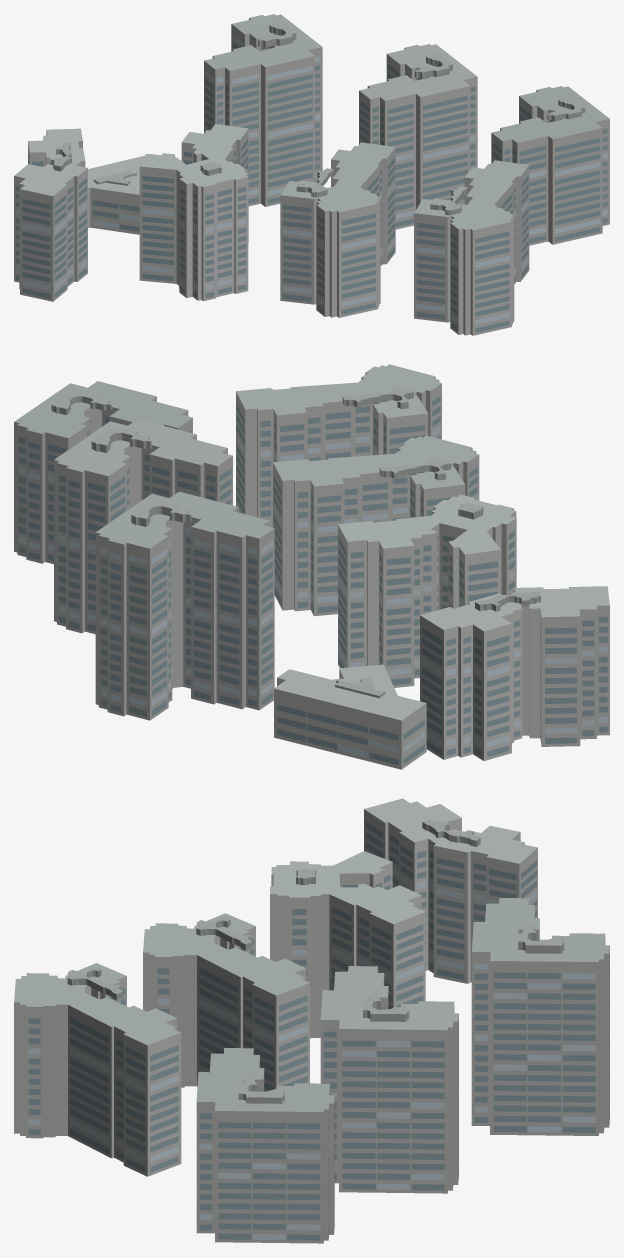
Rendered from apt-a10025159.glb.
3 views of the same model, one above another, from view 1: azimuth 30°, elevation 25°; view 2: azimuth 150°, elevation 25°; view 3: azimuth 270°, elevation 25° (orthographic). The views are drawn at different scales.
Parts seen in each view (by area): view 1: apt-a10025159; view 2: apt-a10025159; view 3: apt-a10025159.
Boxes of the visible parts, <box> form: apt-a10025159: <box>14,14,609,335</box>; apt-a10025159: <box>14,364,609,769</box>; apt-a10025159: <box>14,798,609,1243</box>.
Bounding box in the file's own units: 181 × 49 × 145.
